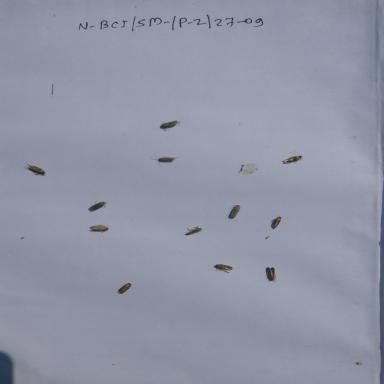pbw: (149, 151, 184, 169), (260, 260, 281, 286), (208, 260, 237, 278), (112, 278, 135, 298), (265, 212, 287, 232), (20, 161, 49, 176), (220, 204, 243, 221), (281, 149, 304, 165), (182, 225, 207, 239), (158, 118, 182, 132), (87, 199, 108, 212), (88, 222, 110, 234)
